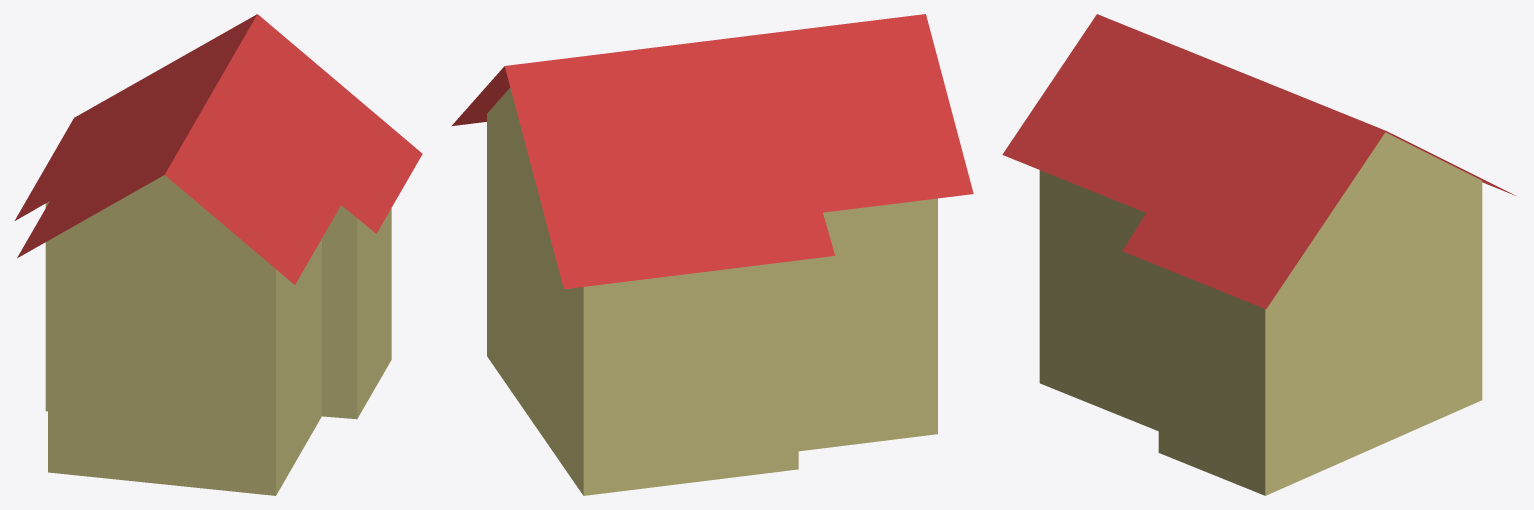
3 views of the same model, side by side, from view 1: azimuth 30°, elevation 25°; view 2: azimuth 150°, elevation 25°; view 3: azimuth 270°, elevation 25° (orthographic). The views are drawn at different scales.
Parts seen in each view (by area): view 1: group_5, group_3, group_4; view 2: group_5, group_3, group_4; view 3: group_5, group_3, group_4.
Part boxes in pixels (left/top/right/bottom): group_5: left=45, top=175, right=391, bottom=495; group_3: left=14, top=14, right=391, bottom=284; group_4: left=74, top=14, right=422, bottom=237; group_5: left=487, top=88, right=937, bottom=495; group_3: left=451, top=14, right=973, bottom=289; group_4: left=505, top=14, right=923, bottom=288; group_5: left=1039, top=132, right=1482, bottom=495; group_3: left=1002, top=14, right=1515, bottom=274; group_4: left=1065, top=14, right=1512, bottom=308.
Size of the model in its own units: 14.63 by 14.71 by 10.28.
